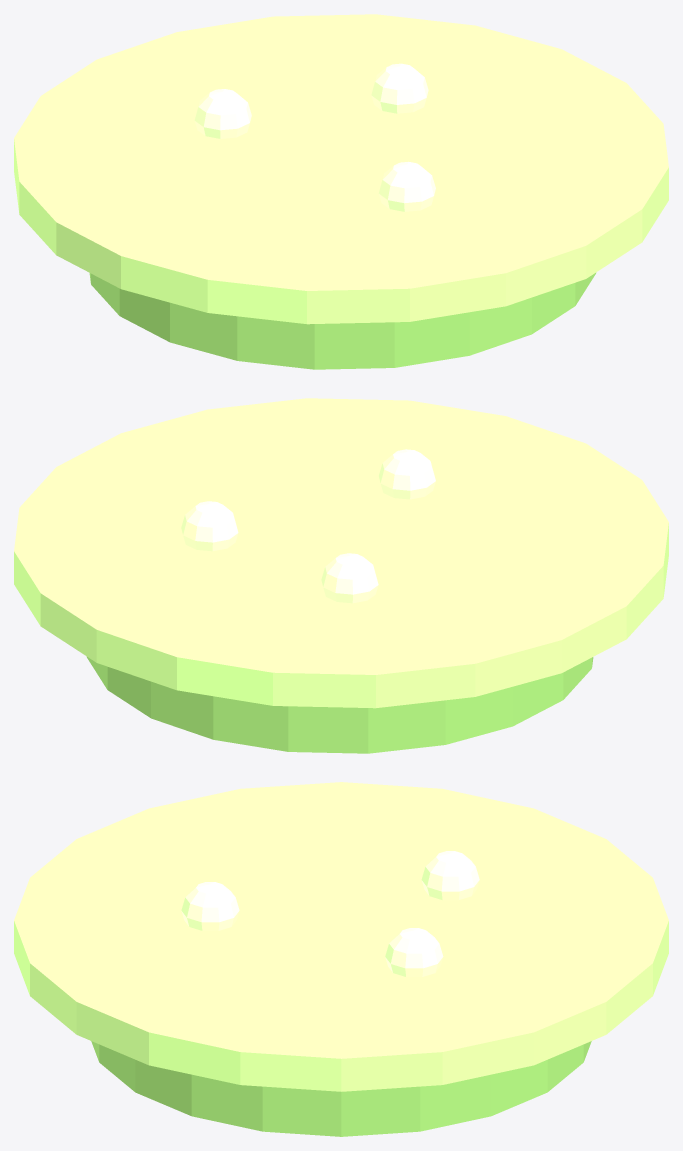
The model's file is hazard_toxic.glb.
The picture shows the model from 3 angles, top to bottom: view 1: azimuth 30°, elevation 25°; view 2: azimuth 150°, elevation 25°; view 3: azimuth 270°, elevation 25°; orthographic projection.
Visible parts, largest first — view 1: toxic_swamp; view 2: toxic_swamp; view 3: toxic_swamp.
Boxes of the visible parts, left/top/right/bottom form: toxic_swamp: left=14, top=14, right=668, bottom=369; toxic_swamp: left=14, top=398, right=668, bottom=753; toxic_swamp: left=14, top=782, right=668, bottom=1136.
Bounding box in the file's own units: 0.9 × 0.22 × 0.9.
